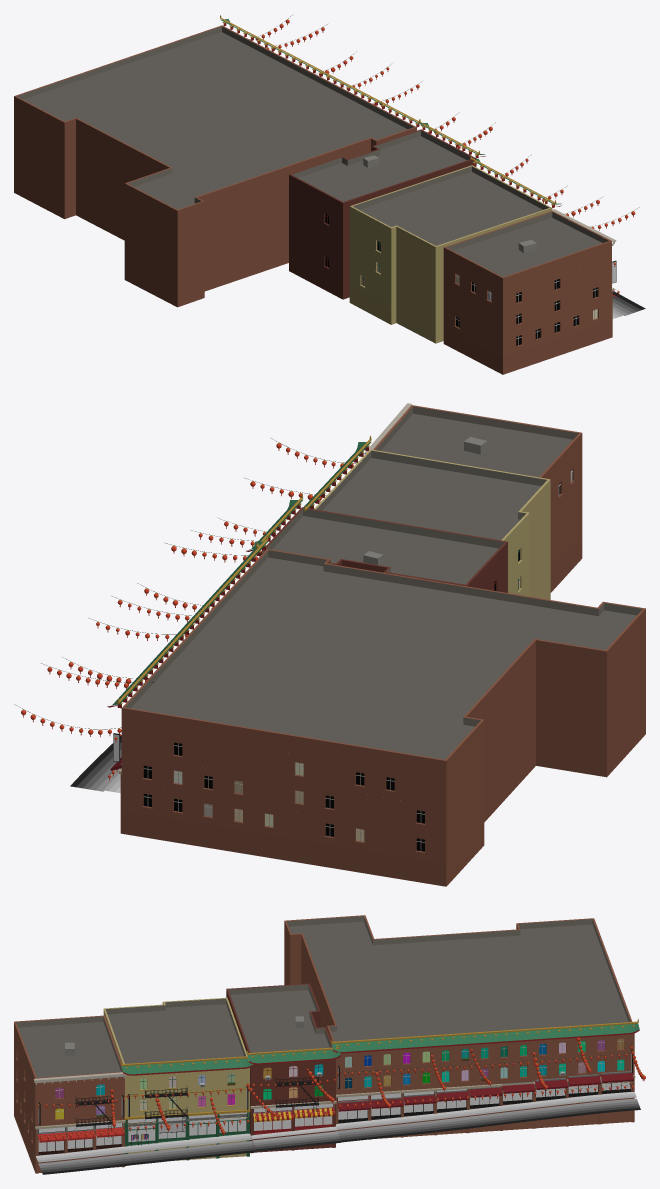
3 renders of one model, top to bottom at view 1: azimuth 30°, elevation 25°; view 2: azimuth 150°, elevation 25°; view 3: azimuth 270°, elevation 25°, orthographic. The views are drawn at different scales.
Parts seen in each view (by area): view 1: L0_roof, L0_d_brickred, L0_brickred, L0_d_stucco, L0_stucco, L0_stone, L0_d_paint, L0_win, L0_lantern, L0_d_metal, L0_rooftile, L0_ground; view 2: L0_roof, L0_brickred, L0_d_brickred, L0_stone, L0_d_stucco, L0_win, L0_d_paint, L0_lantern, L0_stucco, L0_rooftile, L0_ground, L0_d_metal; view 3: L0_roof, L0_brickred, L0_ground, L0_d_metal, L0_clear, L0_rooftile, L0_stucco, L0_d_fabric, L0_stone, L0_cwin, L0_d_paint, L0_d_brickred (+4 smaller).
Part boxes in pixels (<box>): L0_roof: <box>17,26,608,276</box>; L0_d_brickred: <box>14,96,476,307</box>; L0_brickred: <box>64,119,611,374</box>; L0_d_stucco: <box>396,208,552,343</box>; L0_stucco: <box>349,206,396,324</box>; L0_stone: <box>14,25,616,291</box>; L0_d_paint: <box>220,18,613,245</box>; L0_win: <box>325,214,597,345</box>; L0_lantern: <box>250,20,635,293</box>; L0_d_metal: <box>249,15,639,290</box>; L0_rooftile: <box>220,19,561,204</box>; L0_ground: <box>612,291,645,318</box>; L0_roof: <box>125,406,642,759</box>; L0_brickred: <box>121,433,582,886</box>; L0_d_brickred: <box>260,552,645,886</box>; L0_stone: <box>119,403,645,774</box>; L0_d_stucco: <box>521,479,550,599</box>; L0_win: <box>143,470,572,851</box>; L0_d_paint: <box>107,439,371,708</box>; L0_lantern: <box>21,443,353,777</box>; L0_stucco: <box>503,513,529,596</box>; L0_rooftile: <box>111,441,371,705</box>; L0_ground: <box>70,735,121,792</box>; L0_d_metal: <box>14,437,487,774</box>; L0_roof: <box>16,916,630,1077</box>; L0_brickred: <box>14,924,634,1172</box>; L0_ground: <box>35,1092,640,1174</box>; L0_d_metal: <box>38,1016,642,1155</box>; L0_clear: <box>38,1082,630,1151</box>; L0_rooftile: <box>121,1023,639,1074</box>; L0_stucco: <box>125,1002,249,1160</box>; L0_d_fabric: <box>38,1041,644,1142</box>; L0_stone: <box>14,915,635,1129</box>; L0_cwin: <box>55,1038,624,1119</box>; L0_d_paint: <box>35,1021,639,1140</box>; L0_d_brickred: <box>54,921,625,1140</box>.
Size of the model in its own units: 61.04 by 17.74 by 88.23.
